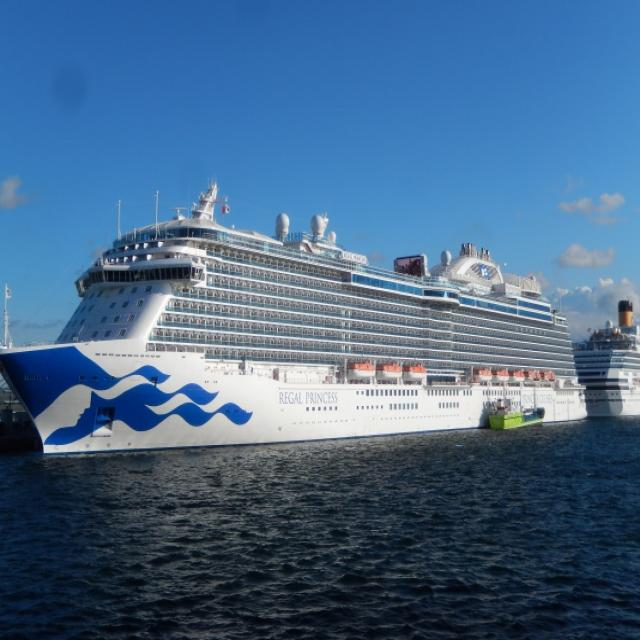cruises: (1, 167, 596, 436), (571, 292, 640, 425)
